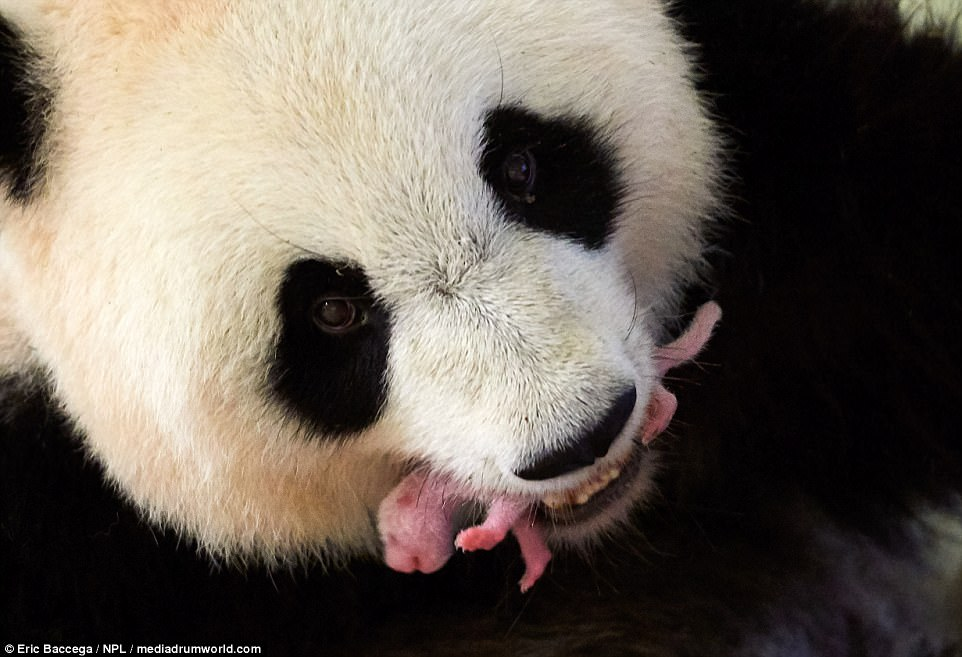panda: (38, 1, 756, 627)
